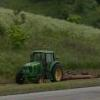Tractor: (11, 47, 67, 88)
